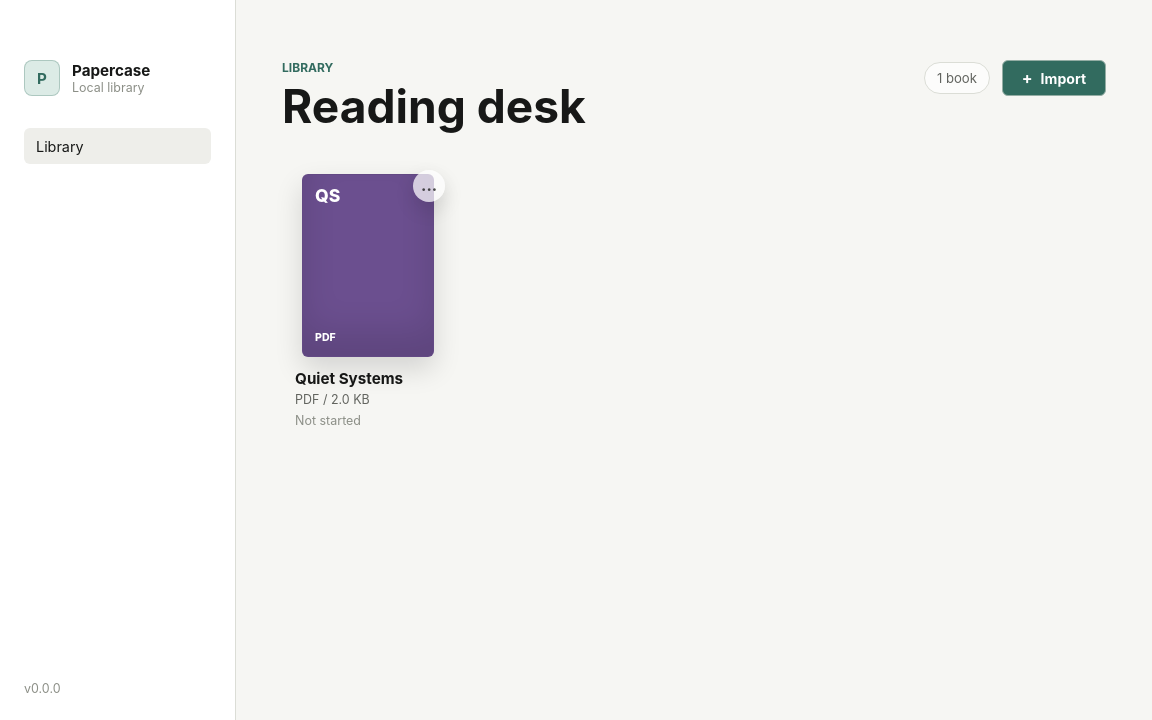
App › shows saved highlights and edits them from the highlight popup
The image size is (1152, 720).
Click the button with aria-label "Open Quiet Systems" at [368, 302], box [295, 174, 441, 430]
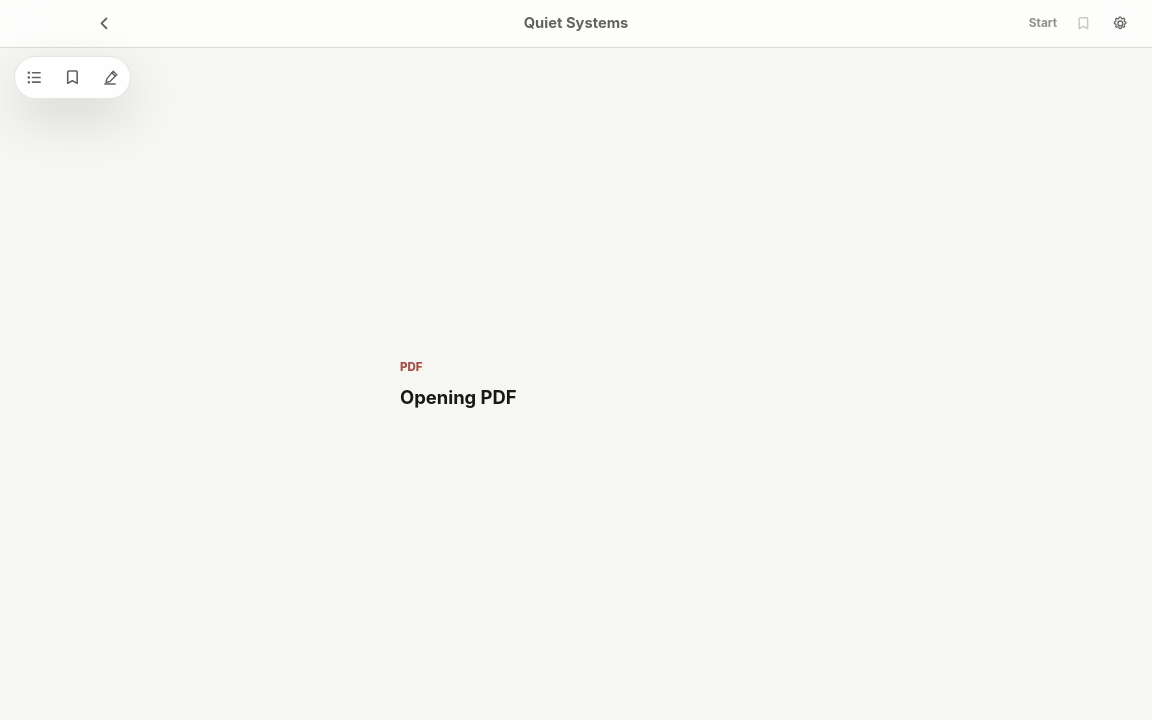
Click the button named "Show highlights and notes" at [110, 77], box [93, 60, 127, 94]
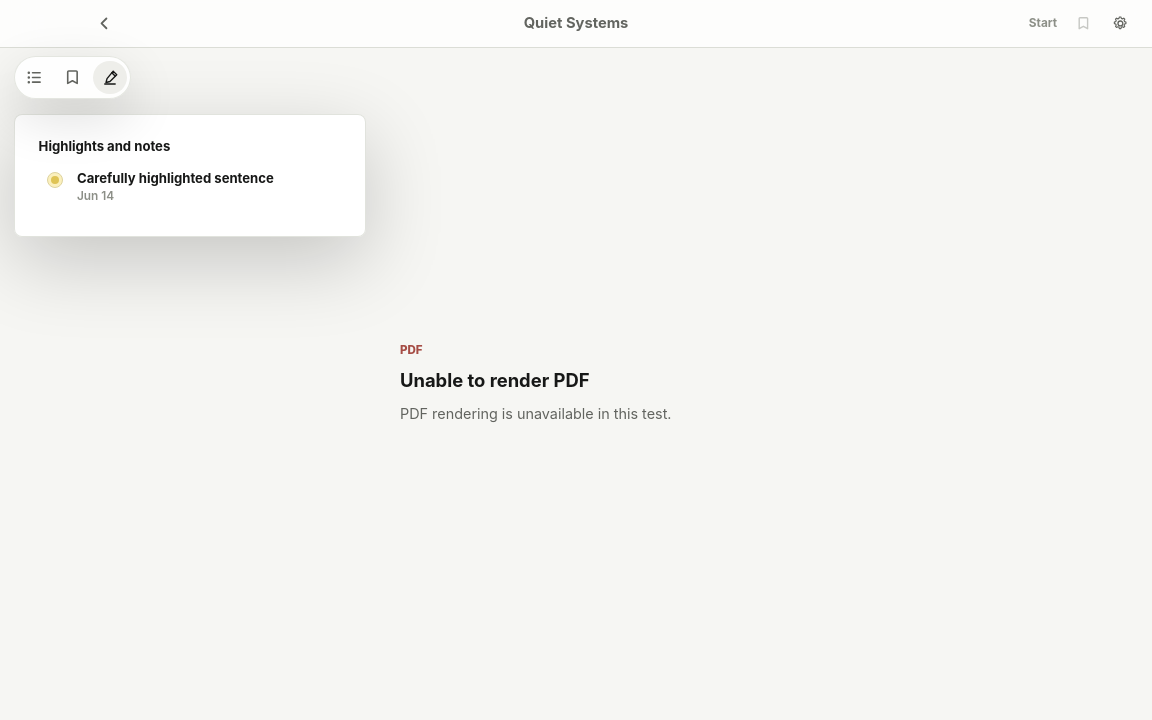
expect the text "Carefully highlighted sentence" is shown: met, box [77, 170, 274, 186]
Click the button with aria-label "Edit highlight Carefully highlighted sentence" at [190, 187], box [39, 162, 341, 212]
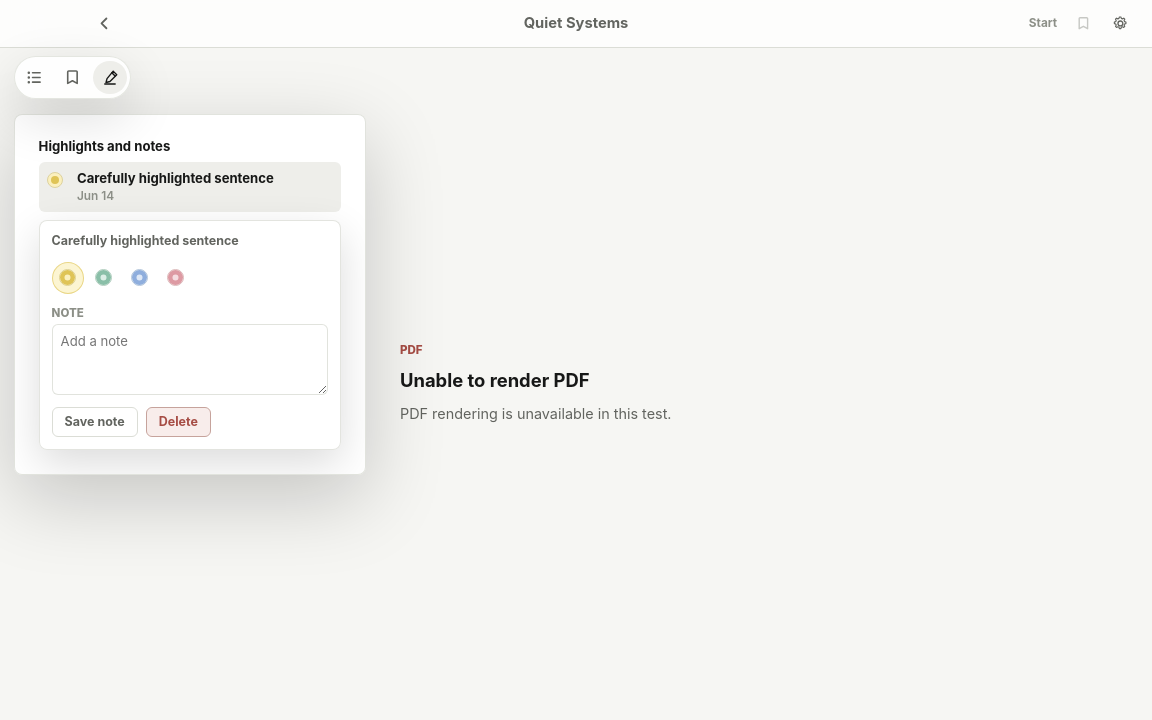
expect the dialog named "Highlight actions" is shown: met, box [39, 220, 341, 450]
Click the button named "Blue highlight" at [140, 278], box [124, 262, 156, 294]
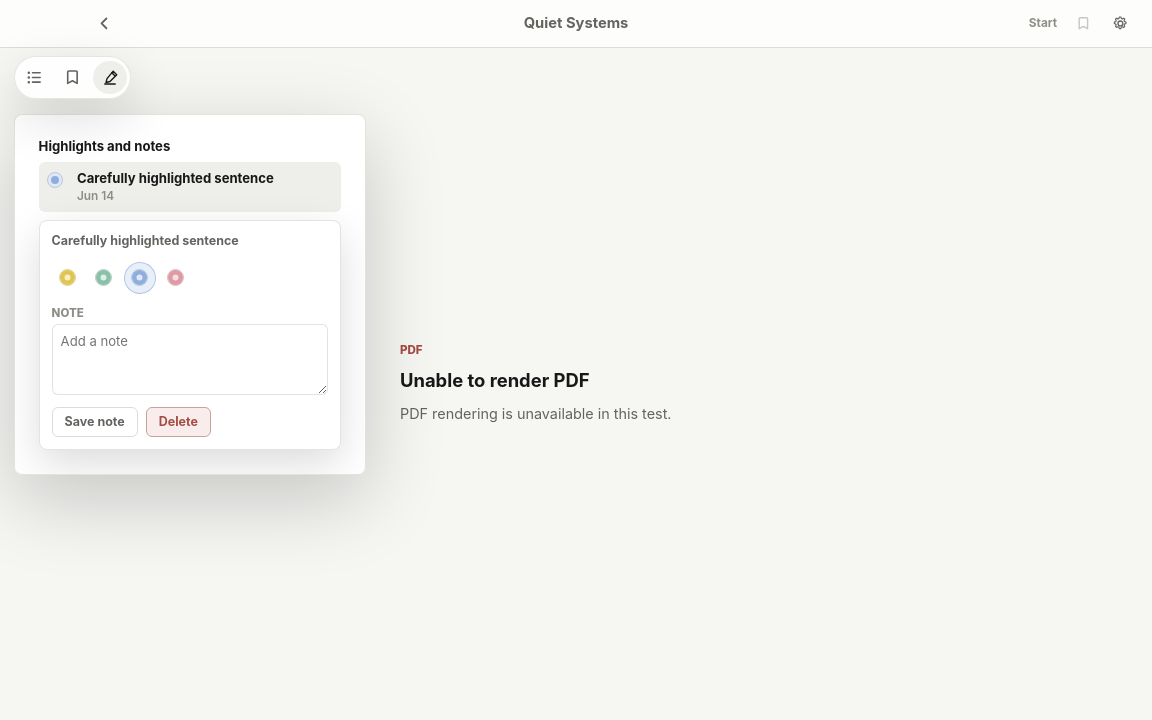
Type "Remember this" into the text box with placeholder "Add a note" at [190, 359], box [52, 324, 328, 395]
Click the button "Save note" at [95, 422], box [52, 407, 138, 437]
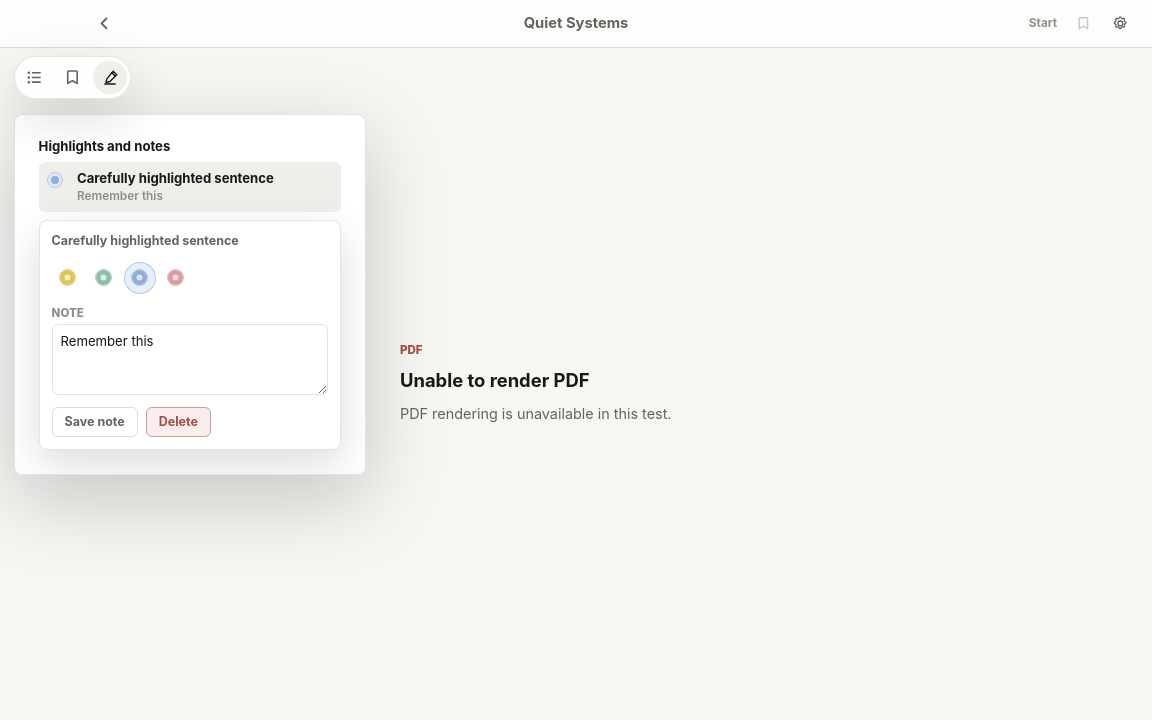
expect the text "Remember this" is shown: met, box [77, 189, 163, 203]
Click the button "Delete" at [178, 422], box [146, 407, 211, 437]
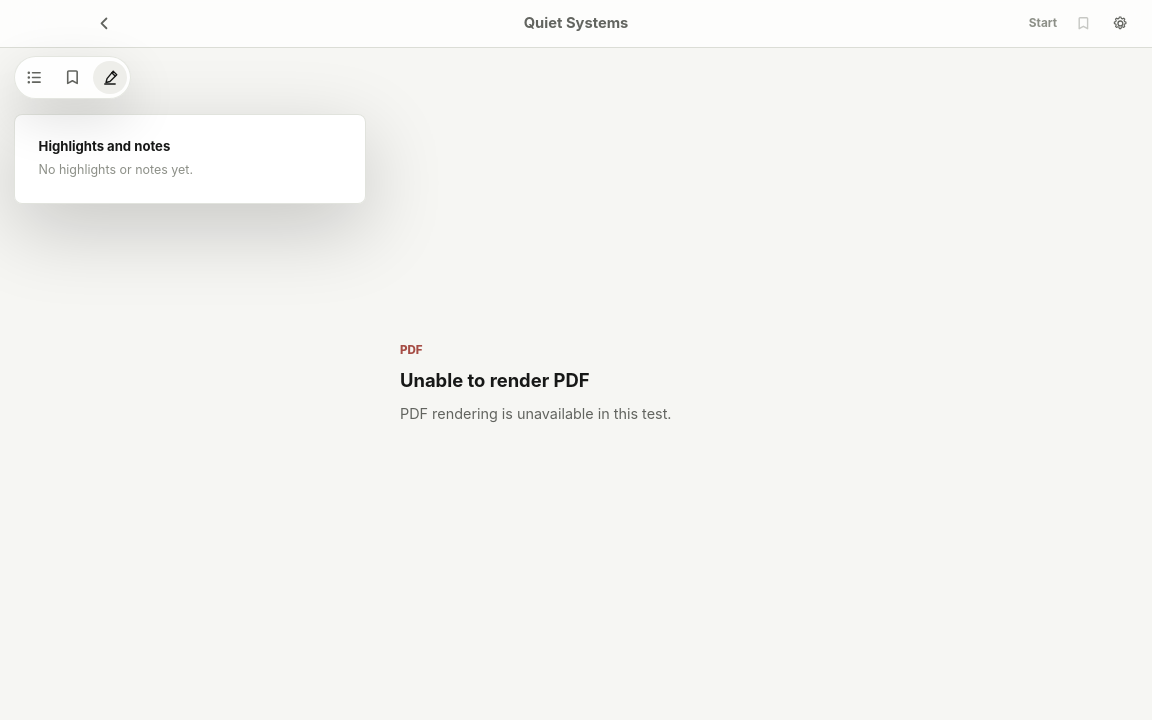
expect the button "Carefully highlighted sentence" is gone: met
expect the text "No highlights or notes yet." is shown: met, box [39, 162, 193, 177]
